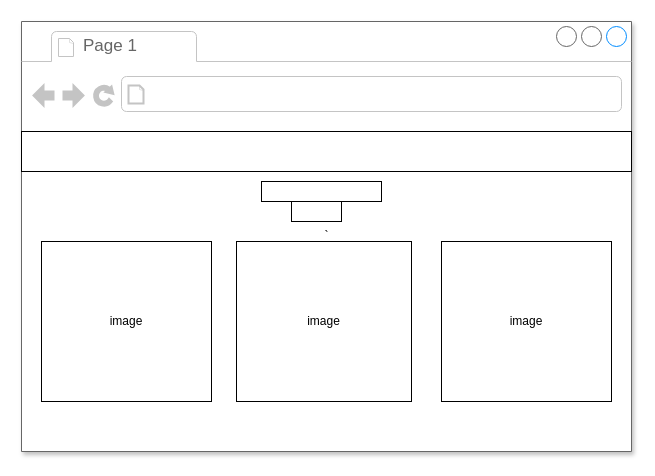
This 655x476 diagram has some shape labels left out. Each missing label, with the centre of its shape:
GiphyPics FAQ Support: (x=326, y=151)
https://www.draw.io: (x=276, y=94)
Submit: (x=316, y=211)
